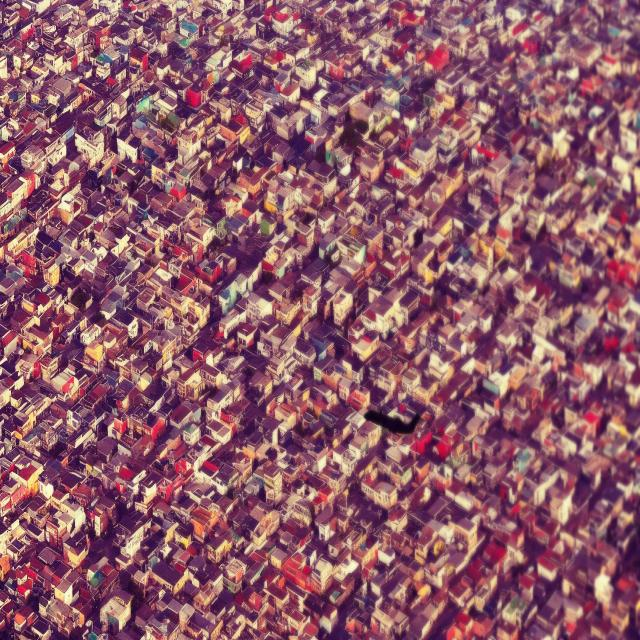airplane: (364, 406, 420, 436)
